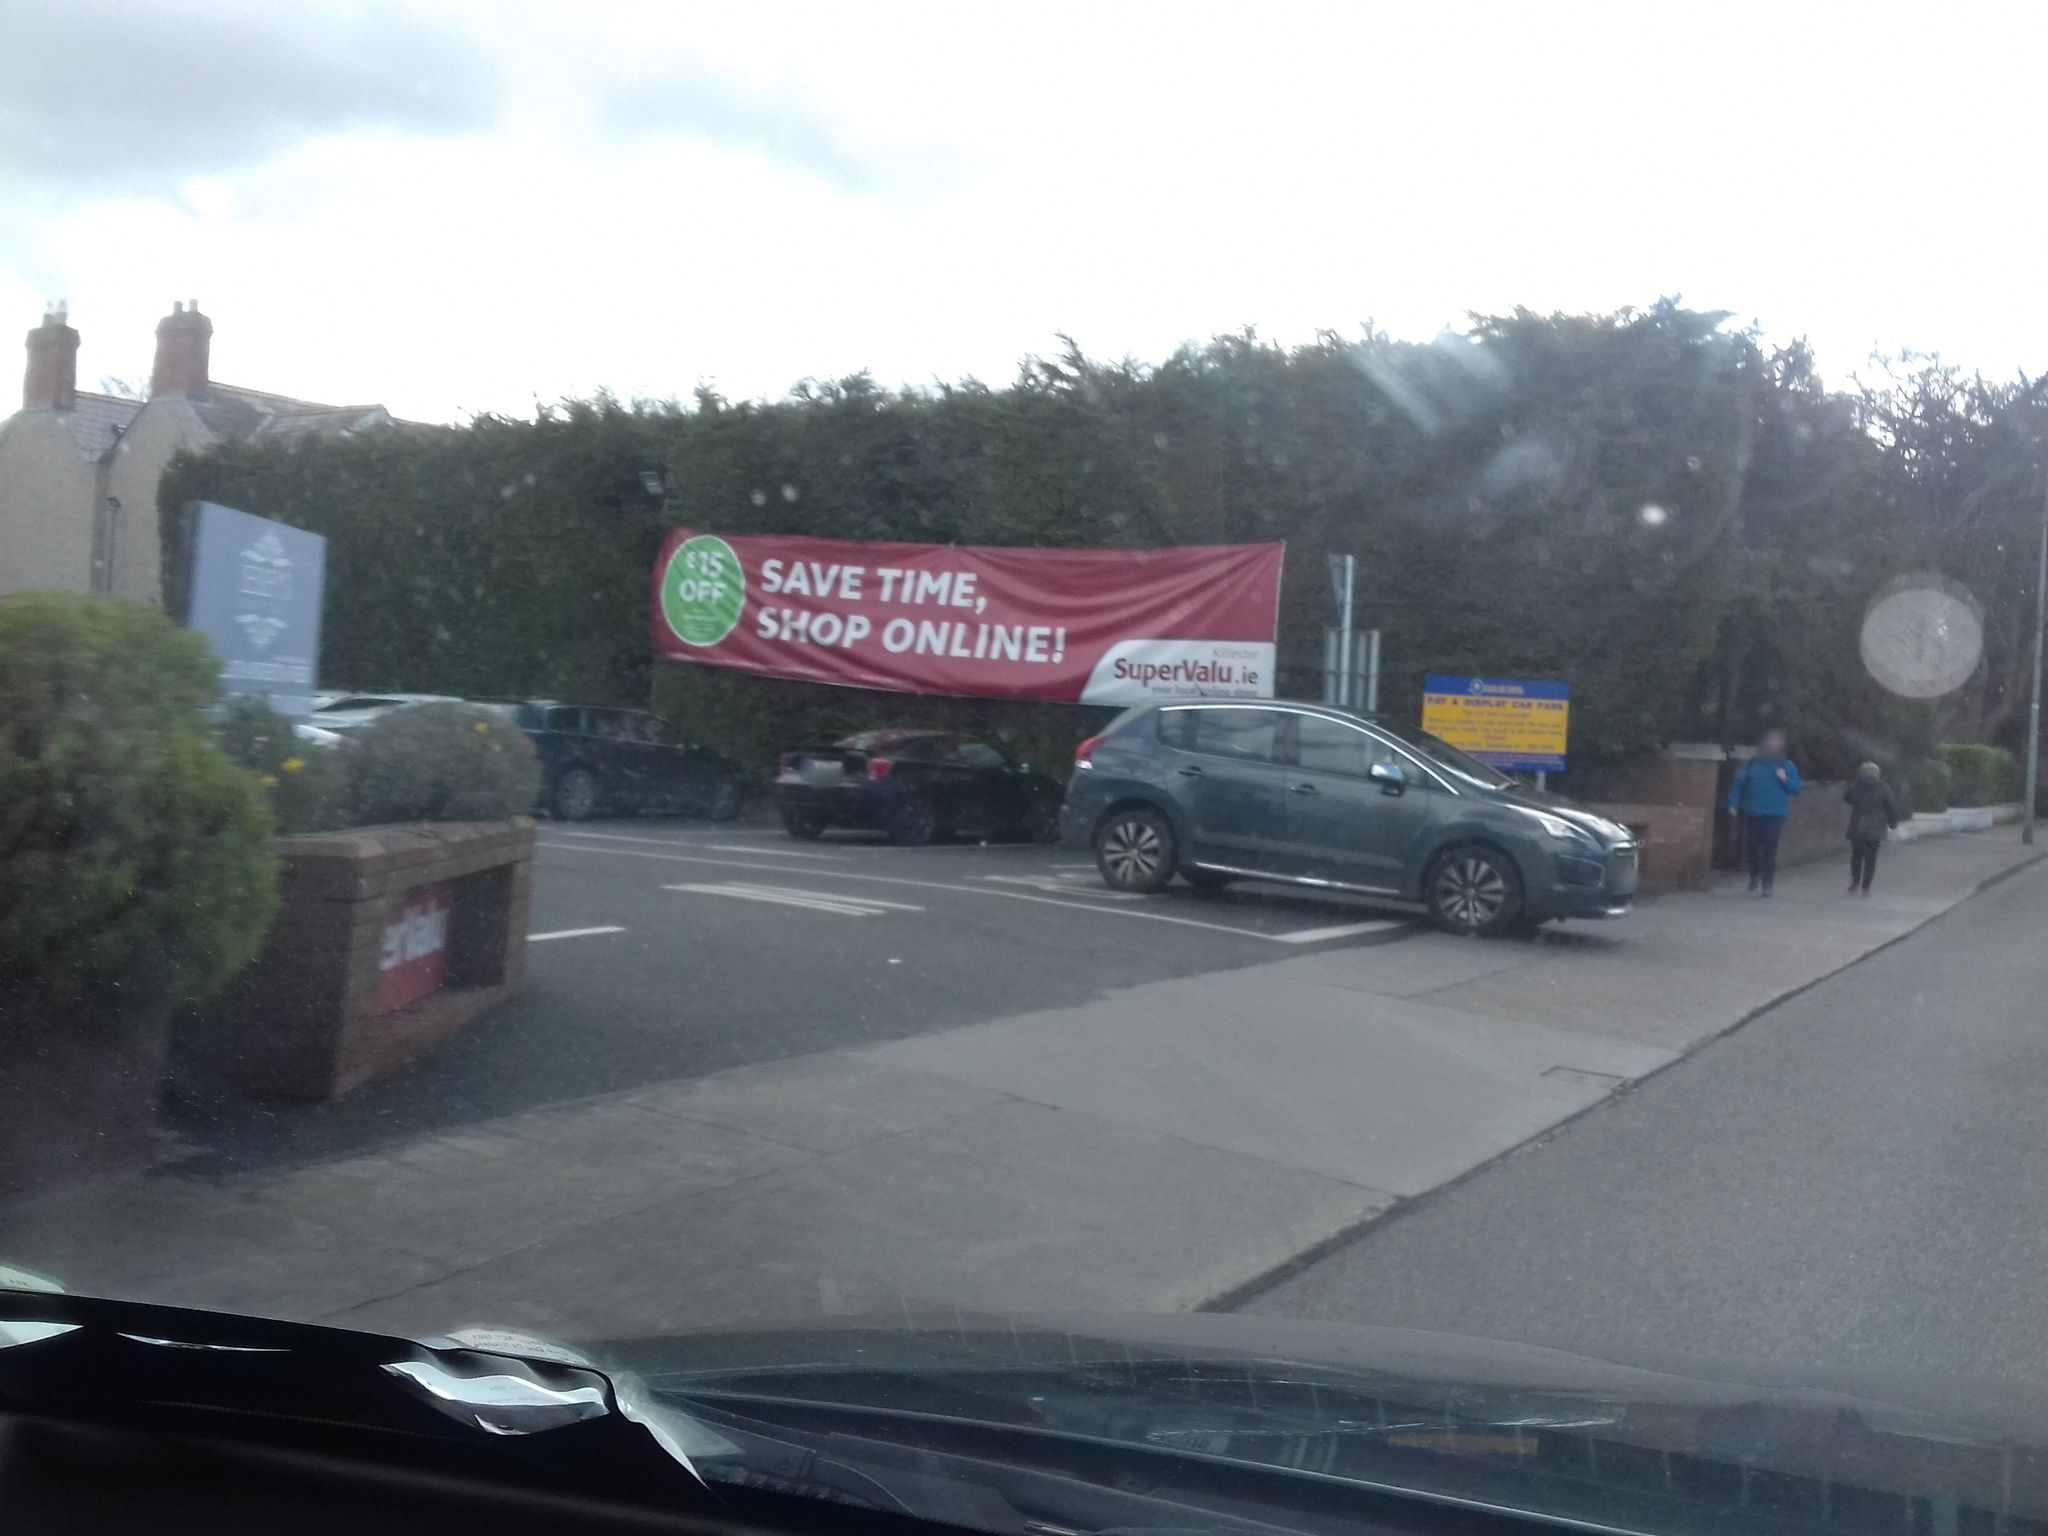vinyl banner: (647, 510, 1292, 741)
